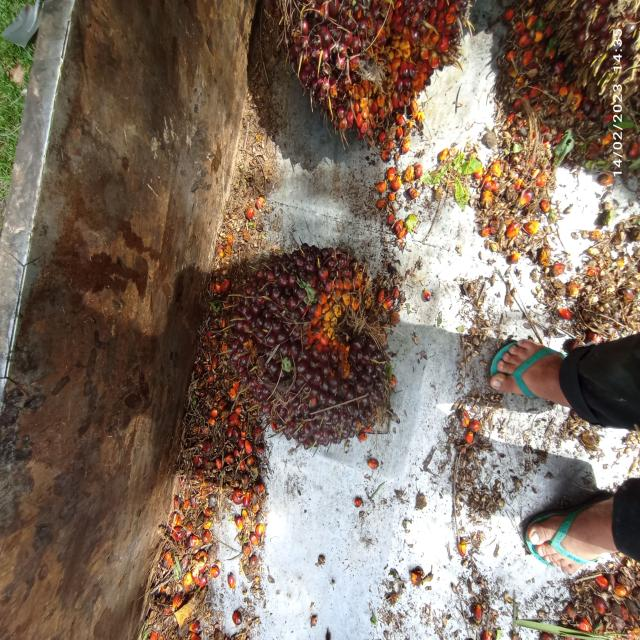fraksi 1: (177, 181, 411, 474)
fraksi 4: (269, 0, 471, 159)
